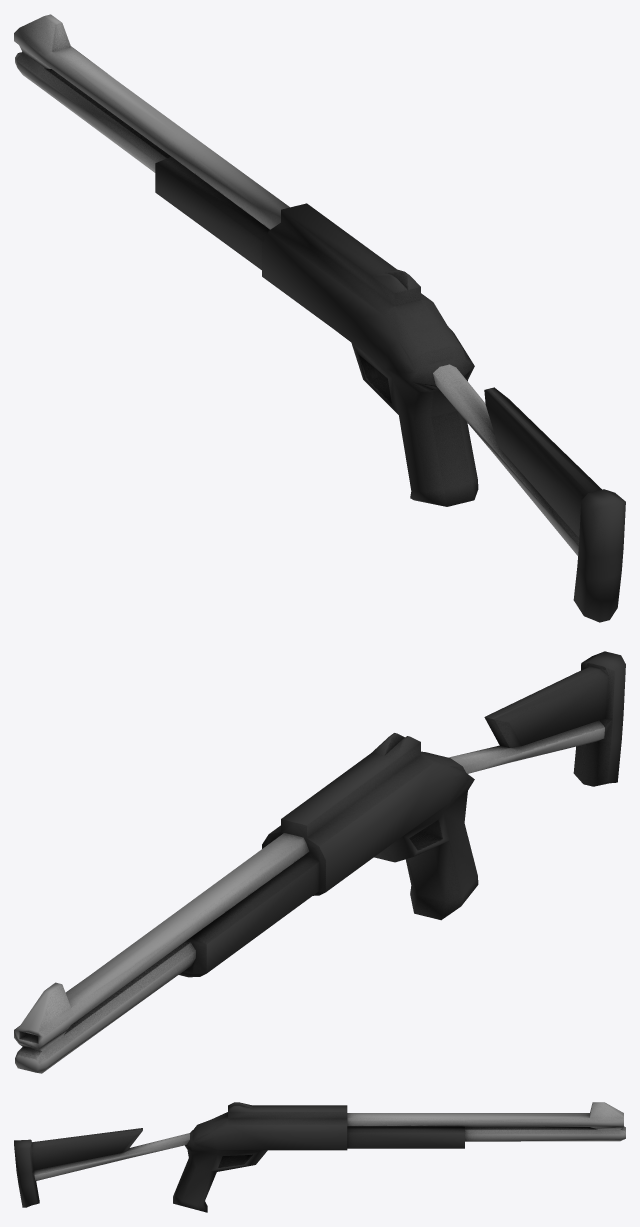
Rendered from Shotgun.glb.
3 renders of one model, top to bottom at view 1: azimuth 30°, elevation 25°; view 2: azimuth 150°, elevation 25°; view 3: azimuth 270°, elevation 25°, orthographic. The views are drawn at different scales.
Visible parts, largest first — view 1: Shotgun; view 2: Shotgun; view 3: Shotgun.
Part boxes in pixels (left/top/right/bottom): Shotgun: left=14, top=14, right=625, bottom=622; Shotgun: left=14, top=651, right=625, bottom=1073; Shotgun: left=14, top=1102, right=625, bottom=1212.
Size of the model in its own units: 2 by 6.07 by 31.68.
Materials: 1 (1 with a texture image).
